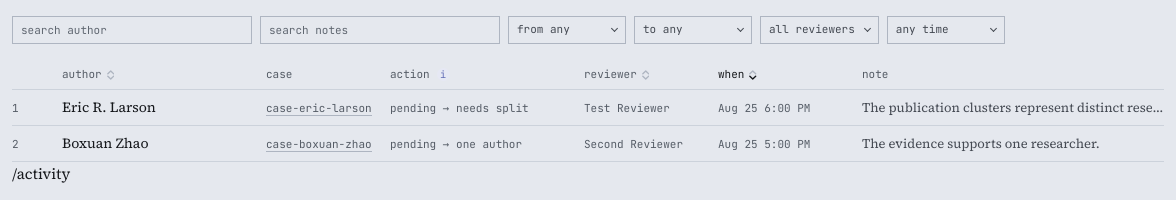
Test: combines author and note filters in the URL
Check: the table named "Recorded decisions" is shown, box [12,60,1164,162]
Type "Eric" into the search field labelled "search author" at coordinates (132, 30), box [12,16,252,44]
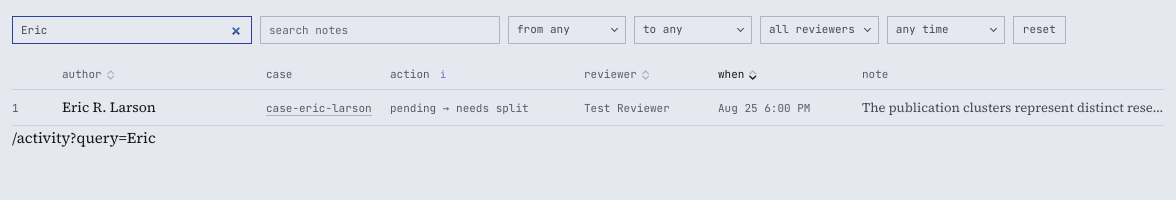
Type "clusters" into the search field labelled "search notes" at coordinates (380, 30), box [260,16,500,44]
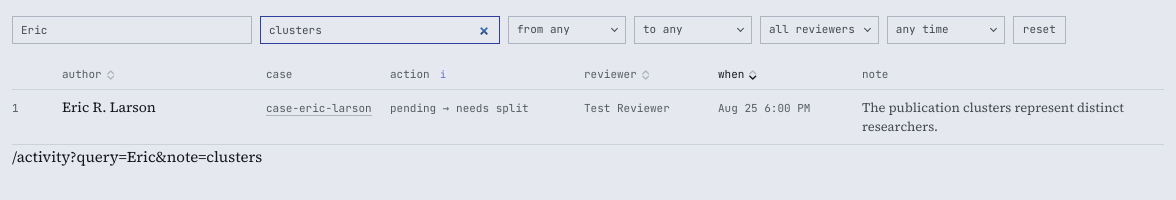
Check: the text "Eric R. Larson" is shown, box [62,97,156,117]
Check: the text with test id "location" shows "query=Eric", box [70,146,262,167]
Check: the text with test id "location" shows "note=clusters", box [70,146,262,167]
